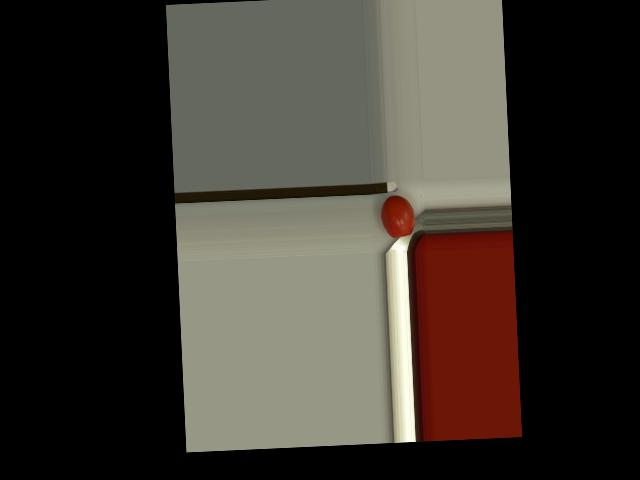tomato: (379, 194, 415, 239)
